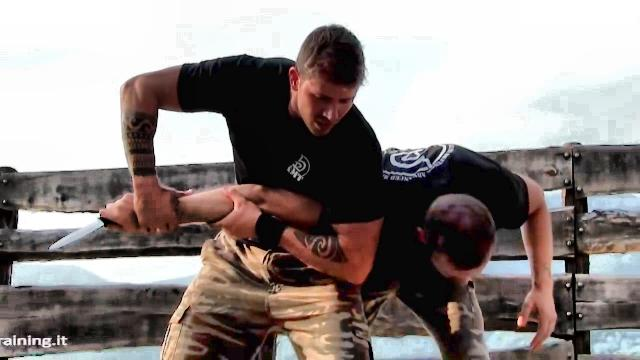knife: (42, 190, 132, 254)
